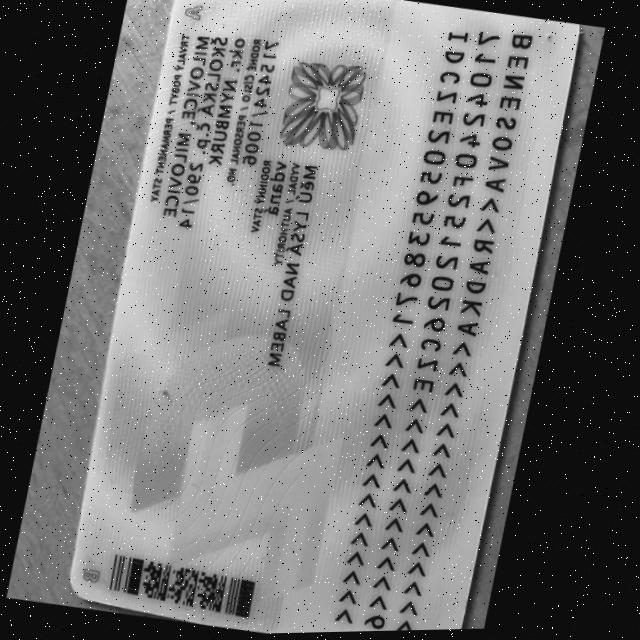card: (70, 0, 577, 632)
